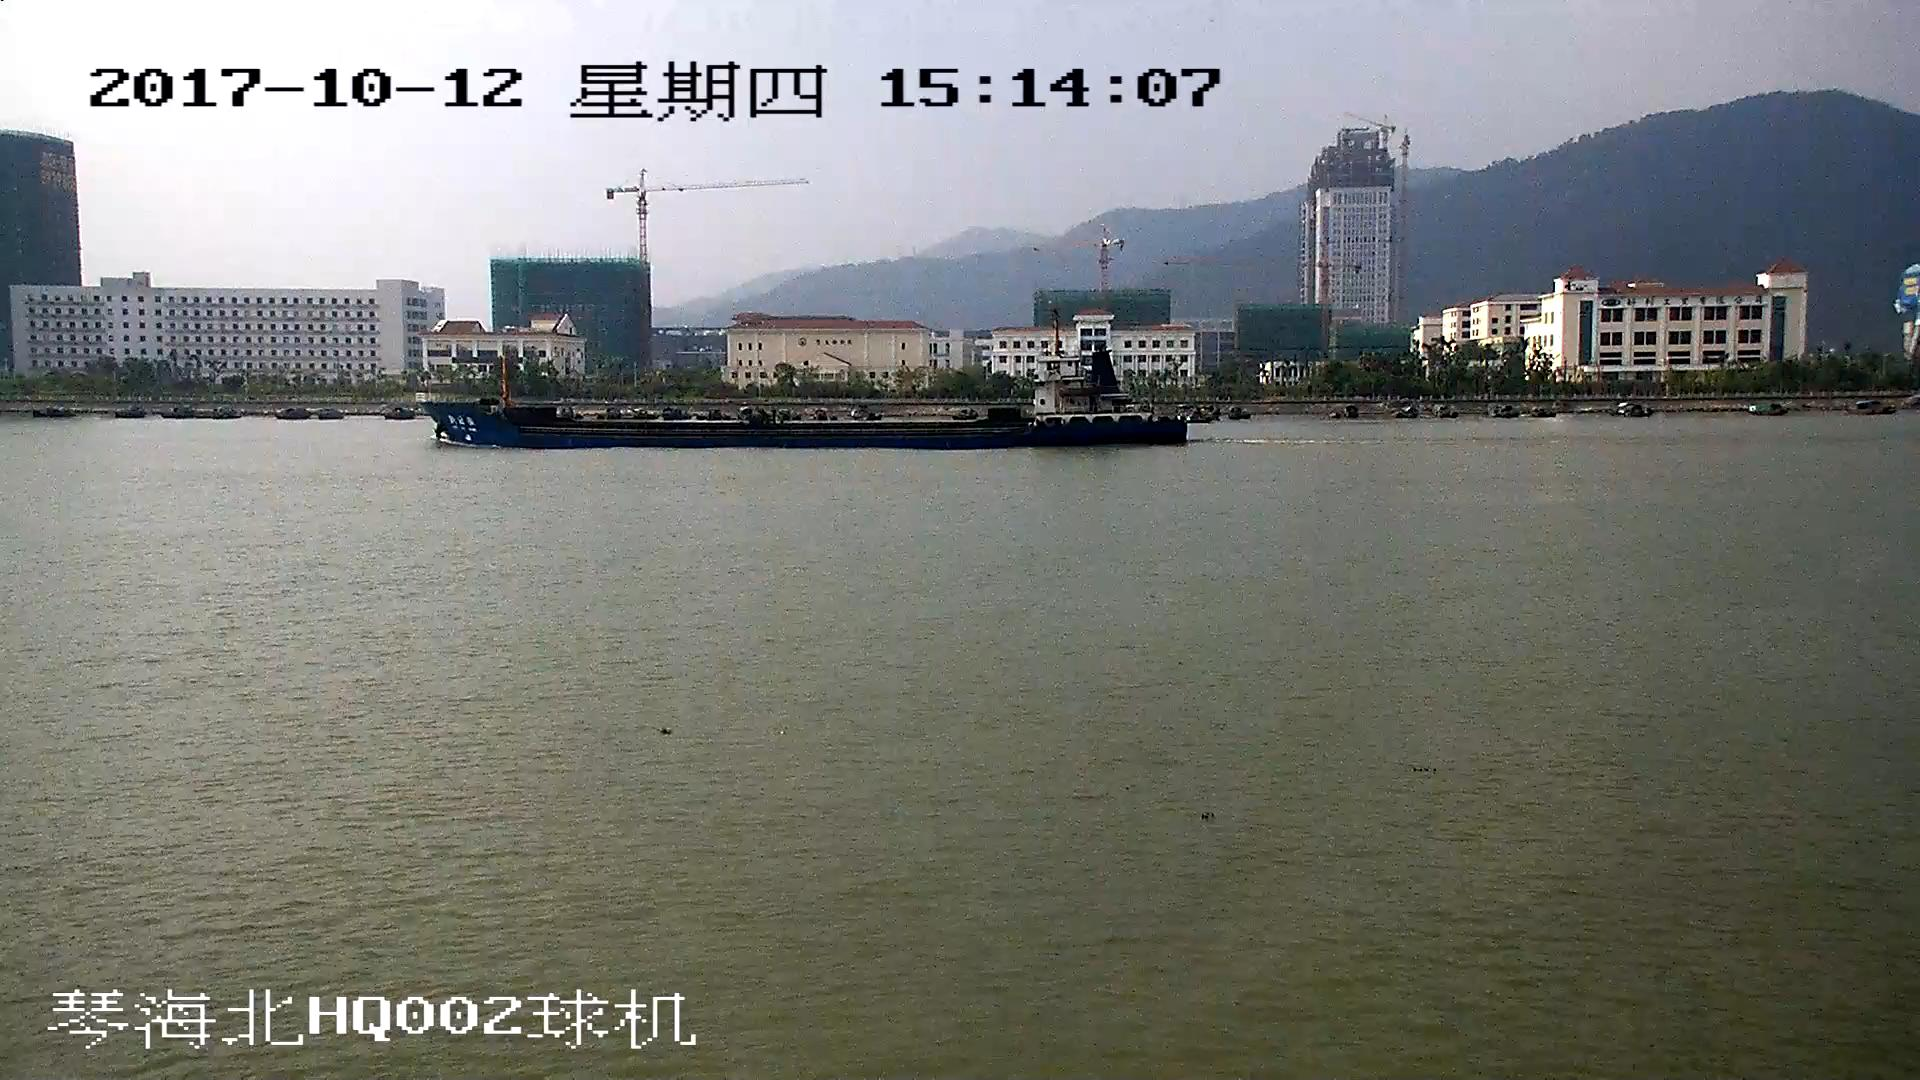general cargo ship: (419, 318, 1185, 449)
